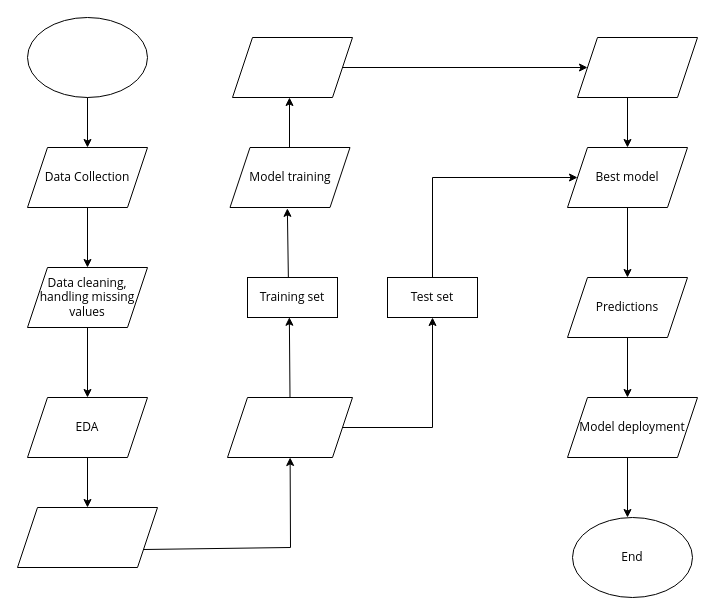
The diagram is 715 pixels wide and 615 high, and some of its shapes have lost their labels. Each missing label, with the centre of its shape:
"Evaluate model" belongs at (292,67).
"Feature Engineering" belongs at (87,537).
"Hyperparameter tuning" belongs at (637,67).
"Split data" belongs at (289,427).
"Start" belongs at (87,57).
